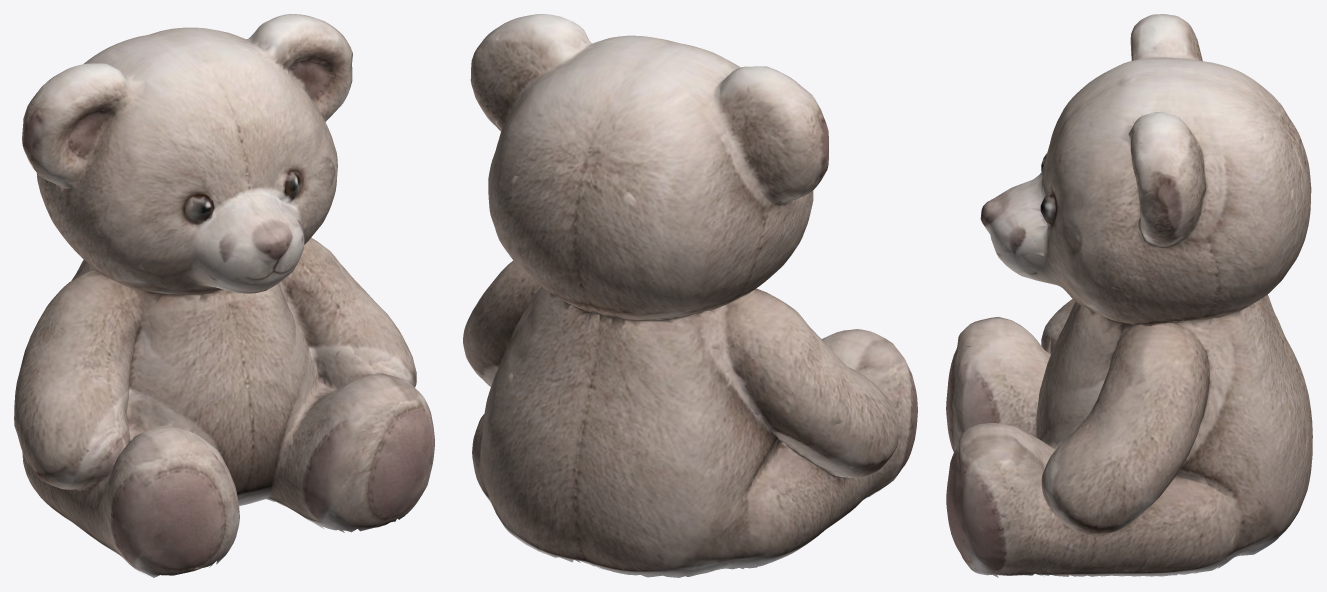
The model's file is teddy.glb.
The picture shows the model from 3 angles, left to right: view 1: azimuth 30°, elevation 25°; view 2: azimuth 150°, elevation 25°; view 3: azimuth 270°, elevation 25°; orthographic projection. The views are drawn at different scales.
Parts seen in each view (by area): view 1: geometry_0; view 2: geometry_0; view 3: geometry_0.
Part boxes in pixels (left/top/right/bottom): geometry_0: left=14, top=14, right=434, bottom=577; geometry_0: left=463, top=14, right=917, bottom=577; geometry_0: left=946, top=14, right=1312, bottom=577.
Size of the model in its own units: 1.74 by 1.93 by 1.44.
1 material, 1 textured.
